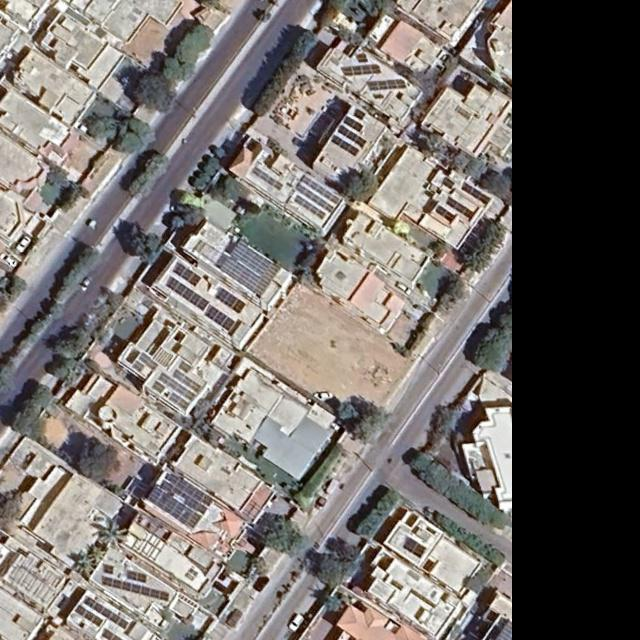solar panel: (220, 239, 281, 296), (148, 487, 201, 531), (158, 473, 212, 515), (102, 575, 169, 602), (84, 596, 129, 630), (167, 277, 209, 311), (157, 373, 197, 401), (297, 184, 334, 213), (302, 177, 340, 204), (294, 195, 326, 220), (217, 287, 246, 314), (205, 305, 236, 330), (253, 167, 284, 191), (173, 368, 201, 393), (338, 125, 368, 148), (174, 263, 202, 286), (75, 605, 104, 626), (332, 135, 360, 156), (169, 392, 189, 410), (344, 116, 364, 132), (139, 352, 157, 369), (127, 570, 146, 584), (103, 630, 122, 639), (153, 381, 166, 394), (133, 361, 144, 372), (104, 564, 114, 576)
